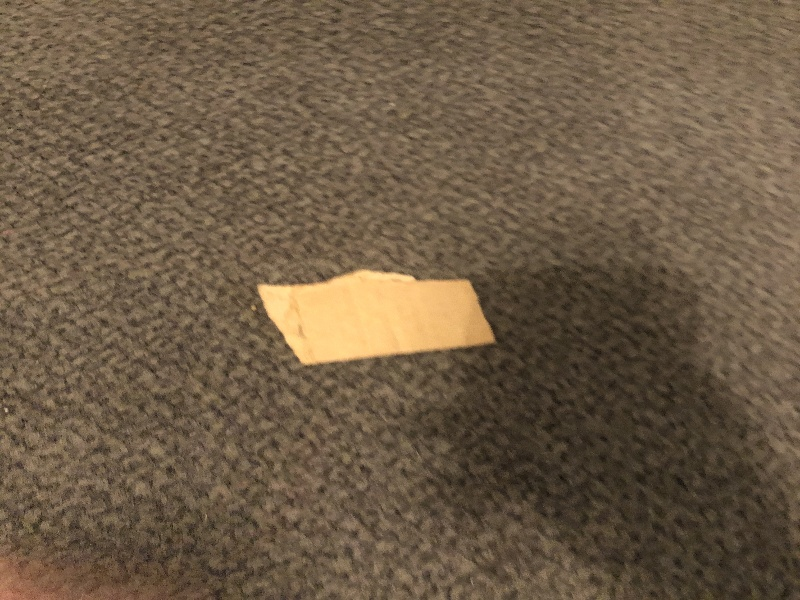cardboard: (250, 262, 502, 372)
